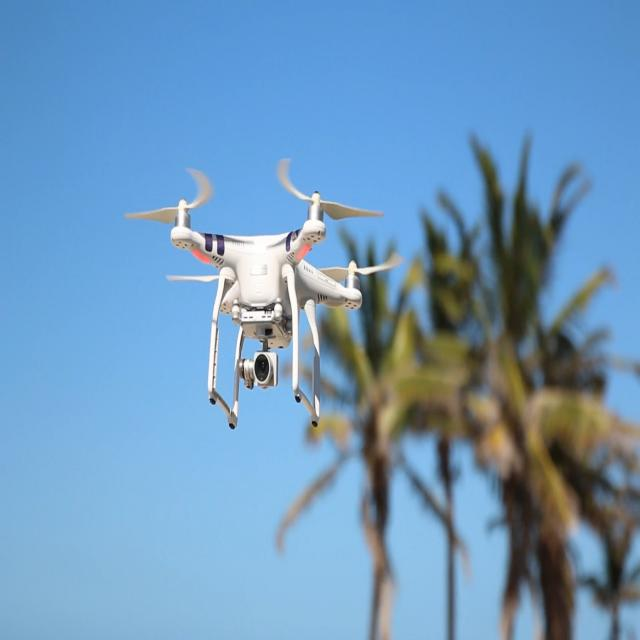Drone: (111, 155, 410, 426)
